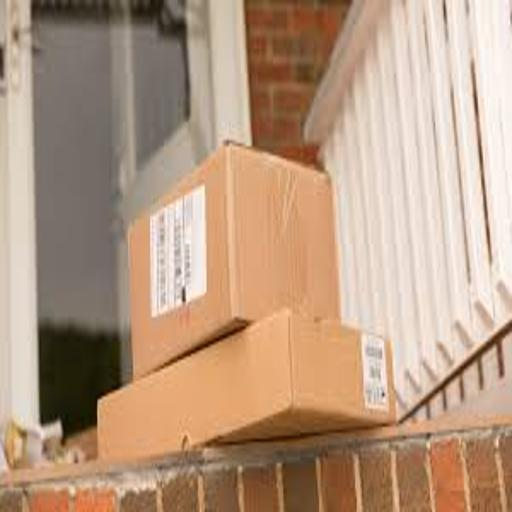Other: (112, 136, 348, 384), (93, 322, 403, 462)
